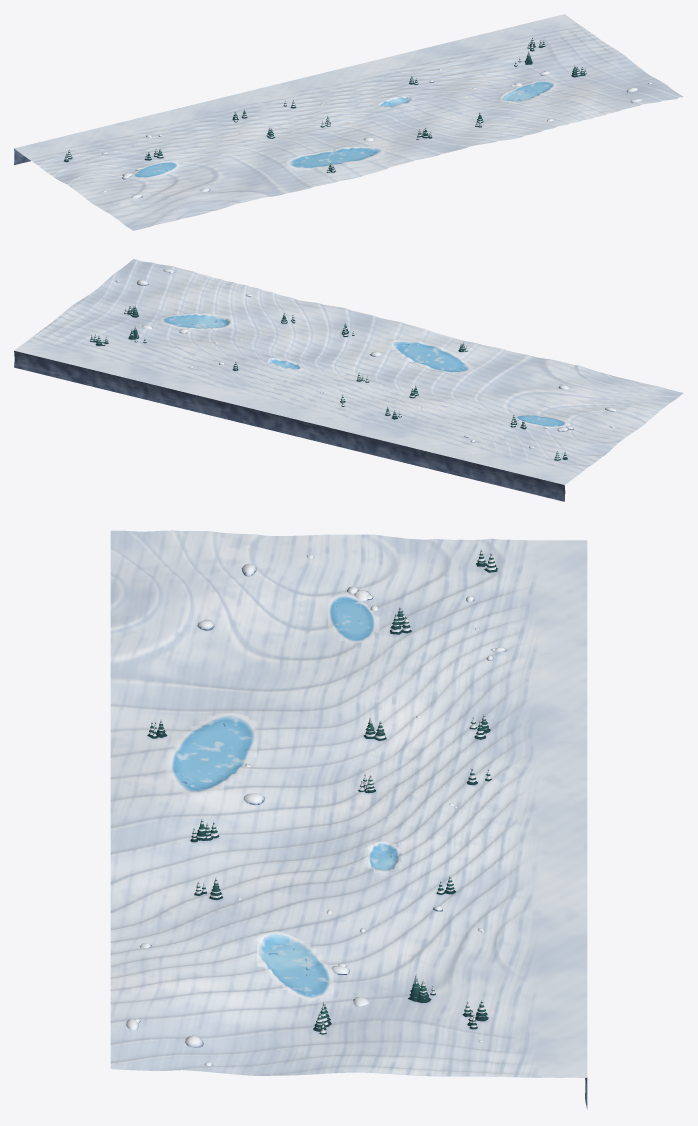
File: FP_B07_SnowField.fbx
3 views of the same model, one above another, from view 1: azimuth 30°, elevation 25°; view 2: azimuth 150°, elevation 25°; view 3: azimuth 270°, elevation 25° (orthographic). The views are drawn at different scales.
Visible parts, largest first — view 1: FP_B07_SnowField; view 2: FP_B07_SnowField; view 3: FP_B07_SnowField.
Part boxes in pixels (x1,y1,x2,y2): FP_B07_SnowField: [14, 14, 683, 230]; FP_B07_SnowField: [14, 259, 683, 501]; FP_B07_SnowField: [110, 530, 587, 1109].
Bounding box in the file's own units: 40000 × 2212 × 15000.
